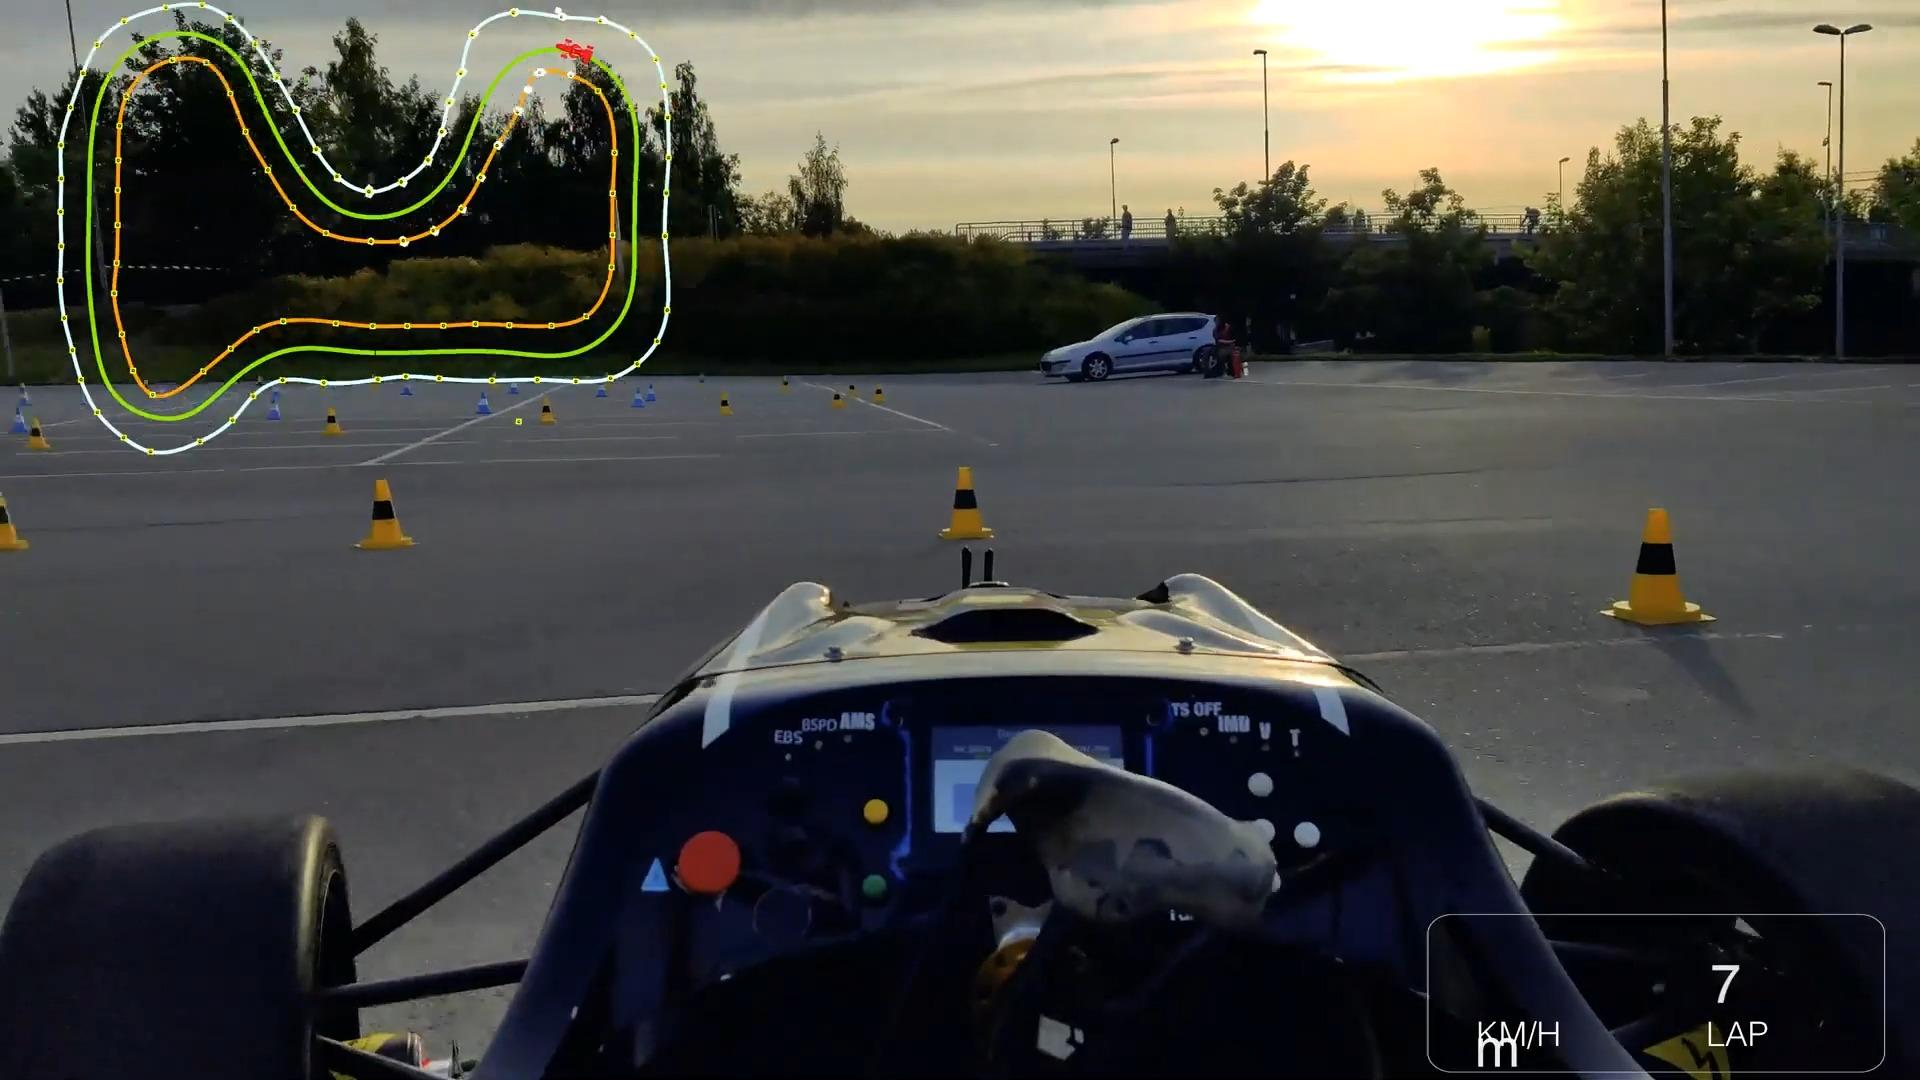blue_cone: (473, 389, 498, 414), (7, 409, 30, 434), (264, 396, 285, 421), (12, 384, 33, 407), (630, 384, 647, 409), (398, 377, 415, 396), (644, 381, 659, 400), (596, 378, 609, 397), (508, 377, 521, 393)
yellow_cone: (1611, 506, 1701, 624), (357, 476, 413, 551), (943, 463, 990, 545), (0, 488, 34, 550), (26, 418, 55, 450), (319, 404, 345, 436), (712, 390, 735, 417), (539, 396, 558, 426), (831, 388, 848, 410), (872, 381, 889, 404), (845, 381, 861, 400), (781, 376, 793, 392)
